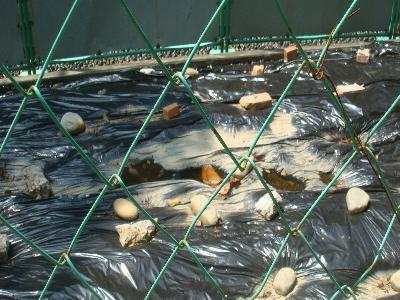plastic_bag: (1, 38, 400, 300), (252, 263, 307, 300)
